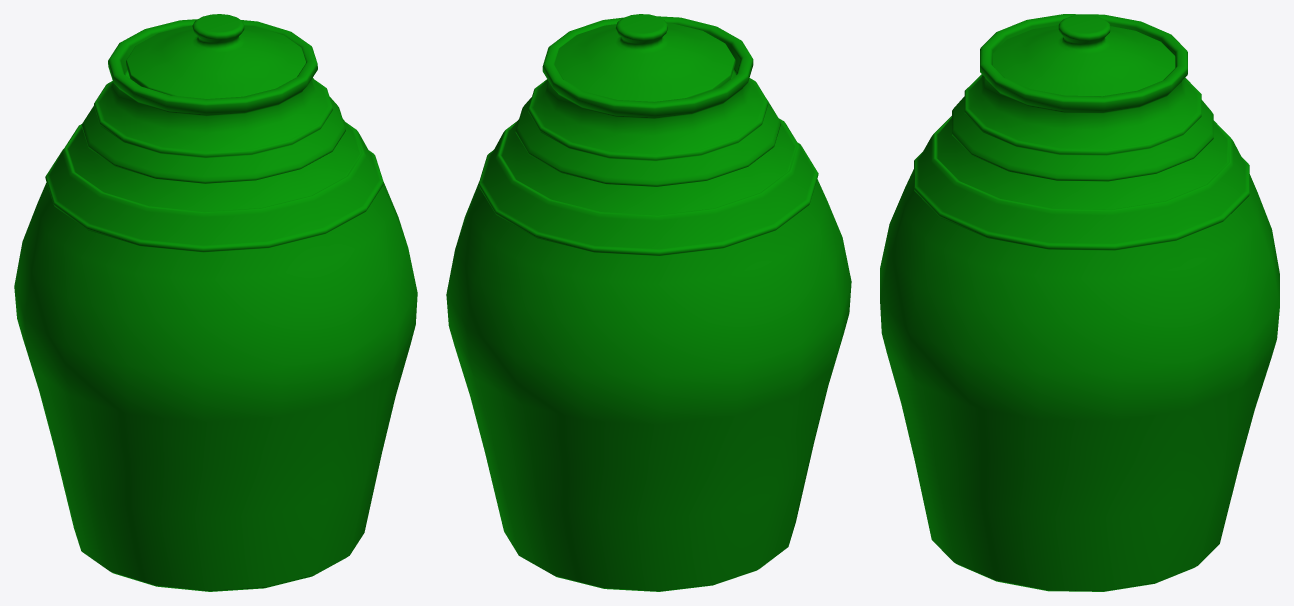
The model's file is SM_Pot_01.fbx.
The picture shows the model from 3 angles, left to right: view 1: azimuth 30°, elevation 25°; view 2: azimuth 150°, elevation 25°; view 3: azimuth 270°, elevation 25°; orthographic projection.
Visible parts, largest first — view 1: SM_Pot_01; view 2: SM_Pot_01; view 3: SM_Pot_01.
Boxes of the visible parts, x1,y1,x2,y2 form: SM_Pot_01: (14, 14, 417, 591); SM_Pot_01: (446, 14, 851, 591); SM_Pot_01: (880, 14, 1279, 591).
Size of the model in its own units: 23.49 by 23.48 by 33.24.
